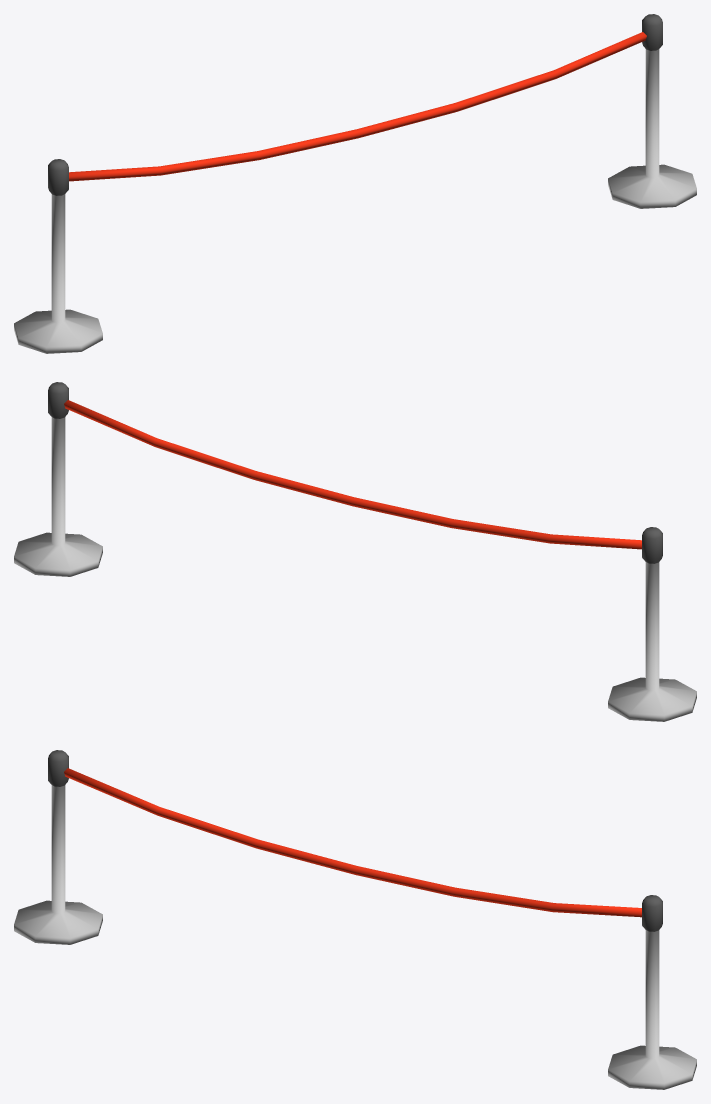
File: velvetrope_3m_twopylon_withrope.glb
3 views of the same model, one above another, from view 1: azimuth 30°, elevation 25°; view 2: azimuth 150°, elevation 25°; view 3: azimuth 330°, elevation 25° (orthographic).
Visible parts, largest first — view 1: velvetrope-full; view 2: velvetrope-full; view 3: velvetrope-full.
Part boxes in pixels (x1=…): velvetrope-full: x1=14, y1=14, x2=696, y2=353; velvetrope-full: x1=14, y1=382, x2=696, y2=721; velvetrope-full: x1=14, y1=750, x2=696, y2=1089.
Bounding box in the file's own units: 5.67 × 1.39 × 0.6711.
Materials: 1 (1 with a texture image).
